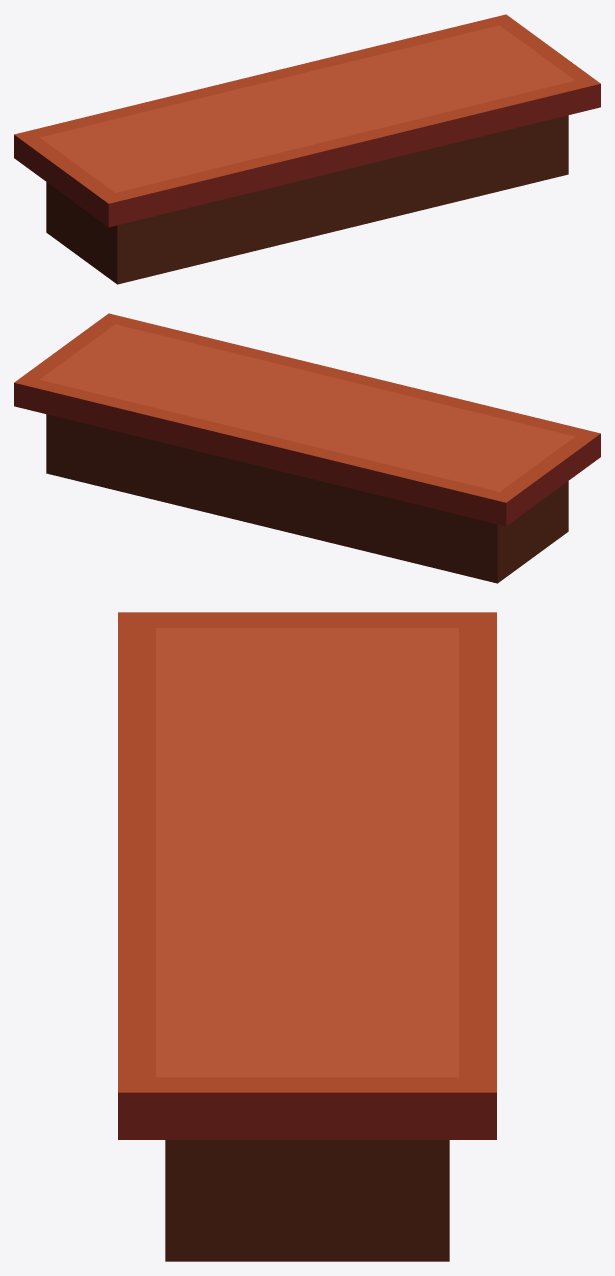
The model's file is ReceptionDesk.fbx.
3 views of the same model, one above another, from view 1: azimuth 30°, elevation 25°; view 2: azimuth 150°, elevation 25°; view 3: azimuth 270°, elevation 25° (orthographic). The views are drawn at different scales.
Parts seen in each view (by area): view 1: ReceptionDesk; view 2: ReceptionDesk; view 3: ReceptionDesk.
Boxes of the visible parts, left/top/right/bottom form: ReceptionDesk: left=14, top=14, right=600, bottom=284; ReceptionDesk: left=14, top=313, right=600, bottom=583; ReceptionDesk: left=118, top=612, right=496, bottom=1261.
Size of the model in its own units: 300 by 55 by 100.
